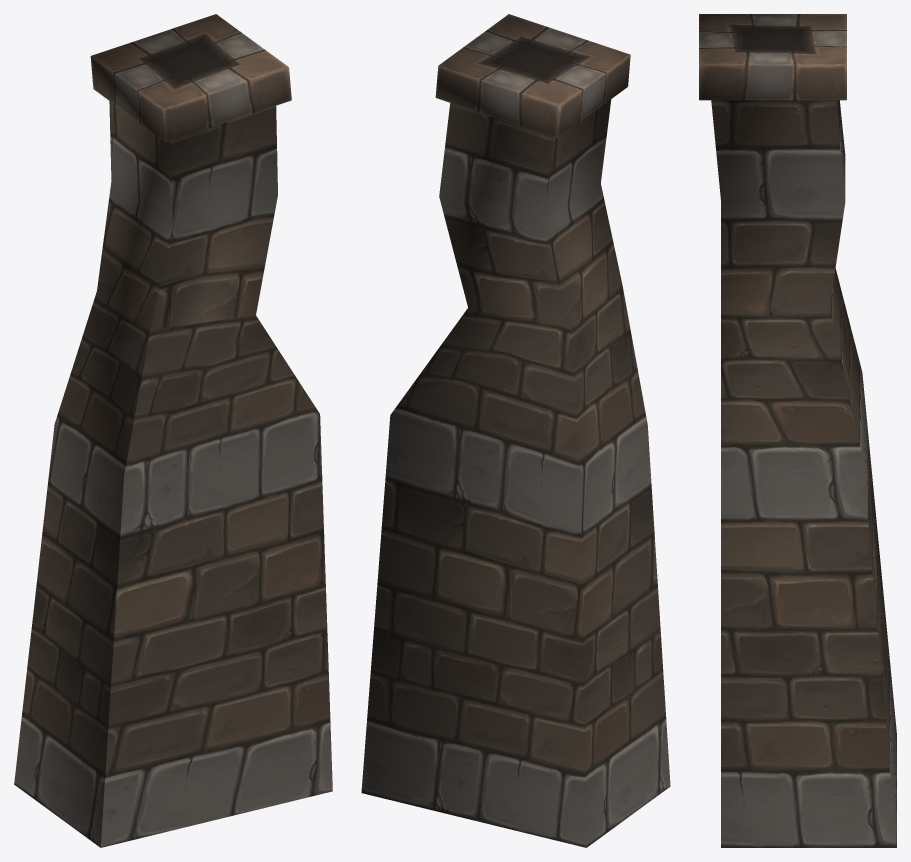
Rendered from M_ChimneyCrooked.fbx.
The picture shows the model from 3 angles, left to right: view 1: azimuth 30°, elevation 25°; view 2: azimuth 150°, elevation 25°; view 3: azimuth 270°, elevation 25°; orthographic projection. The views are drawn at different scales.
Visible parts, largest first — view 1: M_ChimneyCrooked; view 2: M_ChimneyCrooked; view 3: M_ChimneyCrooked.
Part boxes in pixels (x1=…): M_ChimneyCrooked: x1=14, y1=14, x2=332, y2=847; M_ChimneyCrooked: x1=361, y1=14, x2=670, y2=847; M_ChimneyCrooked: x1=699, y1=14, x2=896, y2=847.
Size of the model in its own units: 3.18 by 9.76 by 2.31.
